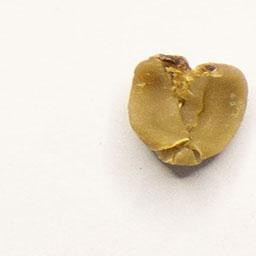defect: (125, 48, 252, 176)
